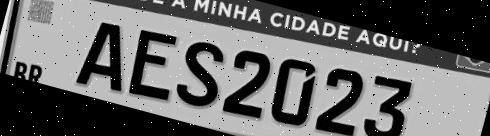placa_mercosul: (1, 0, 490, 136)
